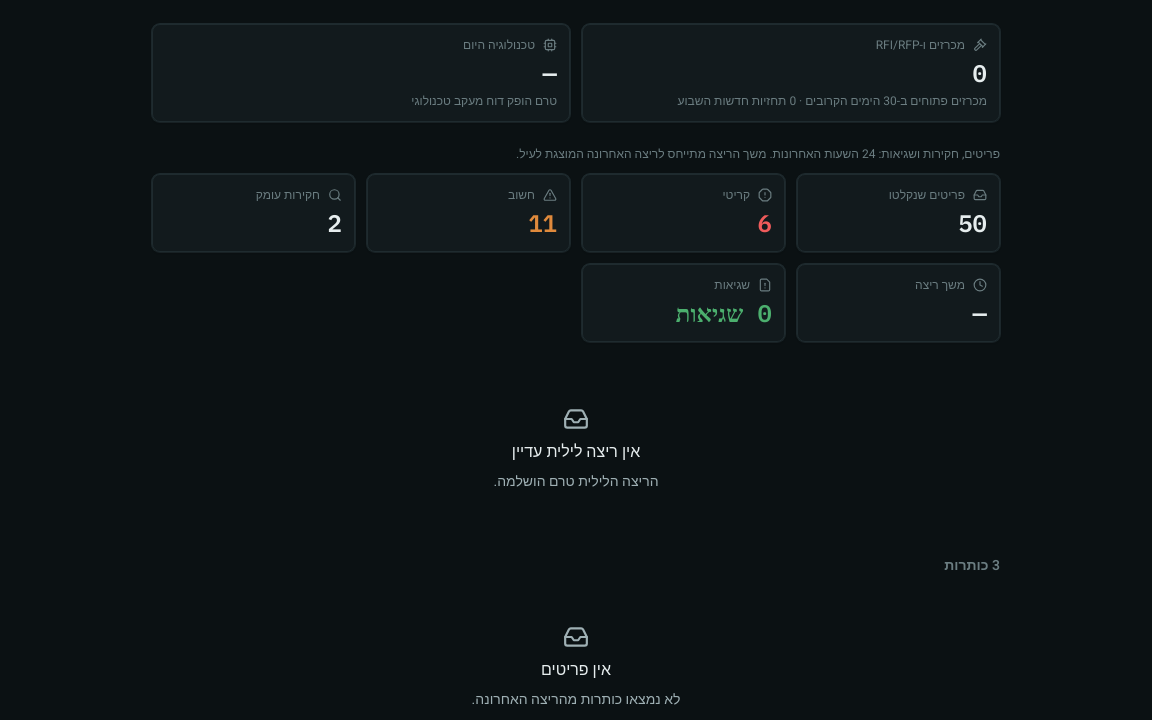
Test case: MorningPage KPI cards (U2) › shows a clean, green '0 שגיאות' state when there are no recent errors
Check: the text "50" is shown, box left=958, top=207, right=987, bottom=239
Click the button "שגיאות 0 שגיאות": (684, 303) left=582, top=264, right=785, bottom=342
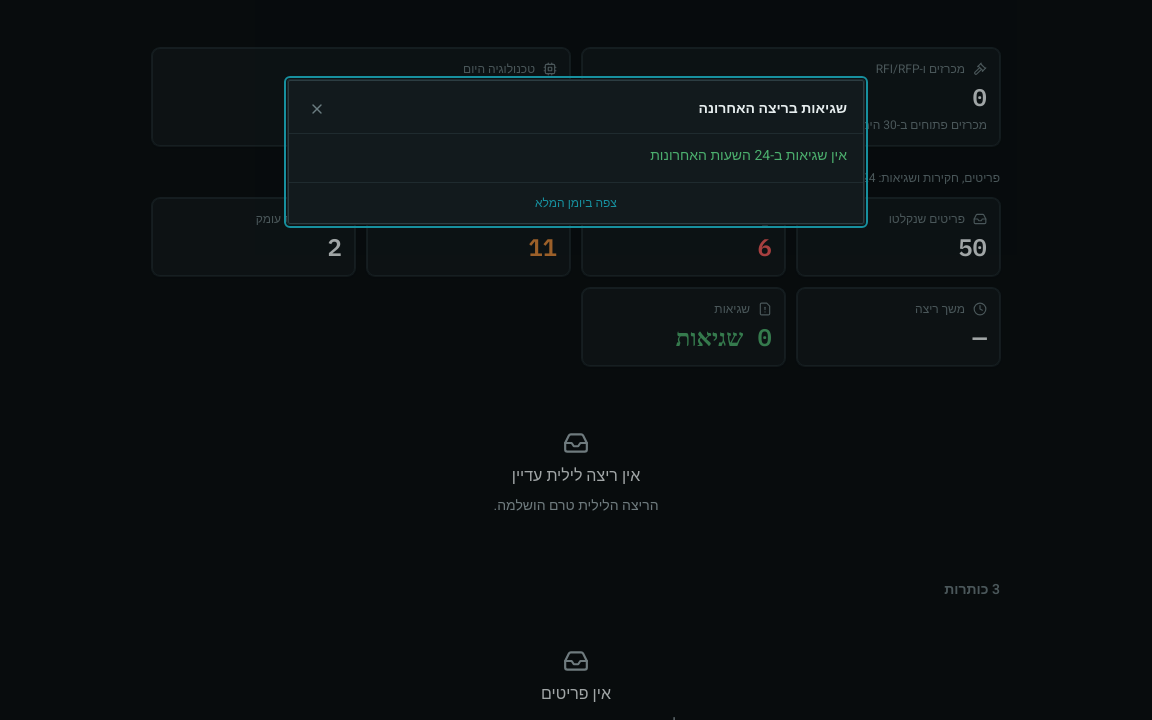
Check: the dialog is shown, box left=288, top=80, right=864, bottom=224
Check: the text "אין שגיאות ב-24 השעות האחרונות" is shown, box left=650, top=145, right=847, bottom=166
